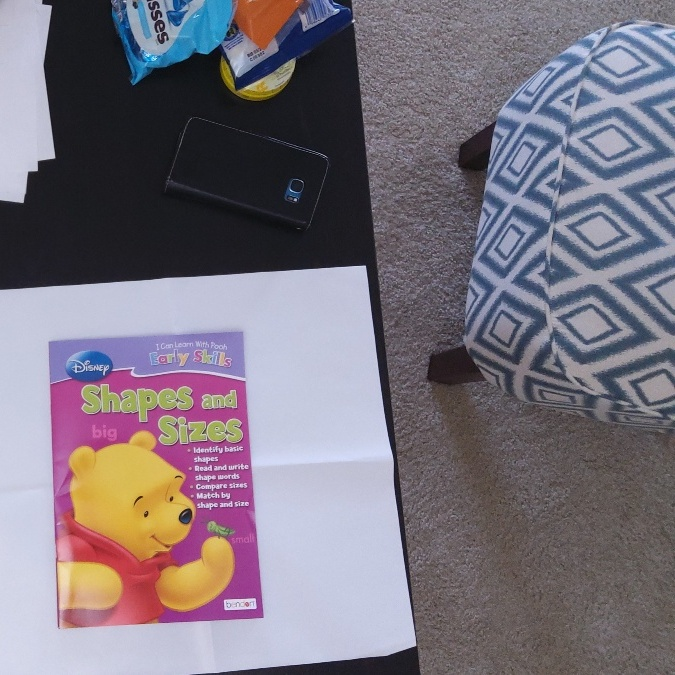book: (50, 340, 252, 618)
